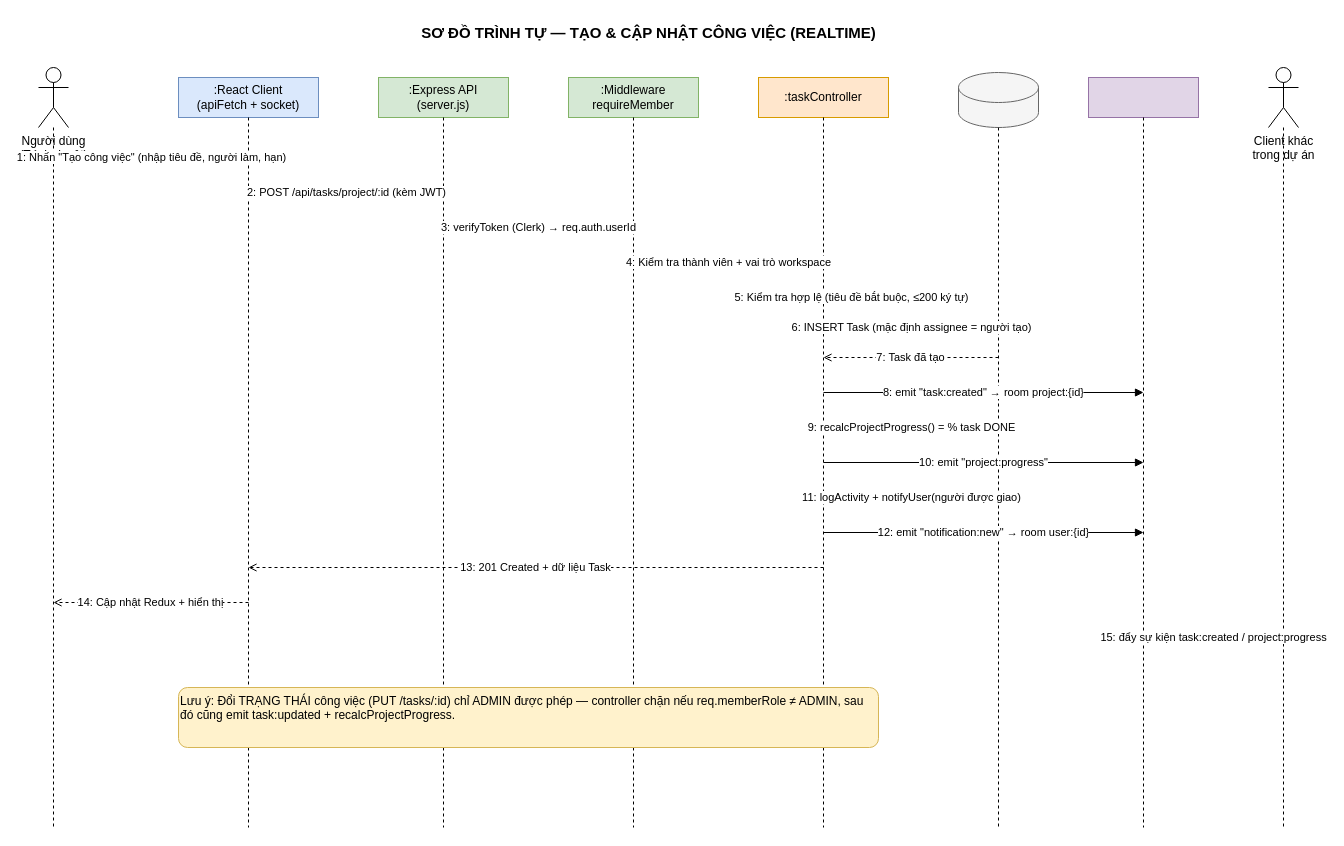
This 1344x846 diagram has some shape labels left out. The centre of each missing label's shape, as x and y in pixels:
":Prisma / PostgreSQL" goes at [998,100].
":Socket.io" goes at [1143,97].
